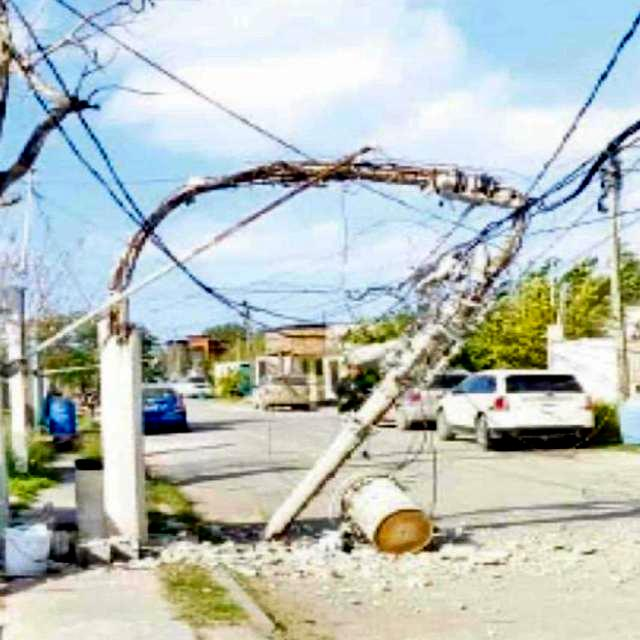Broken Pole: (98, 155, 543, 562)
